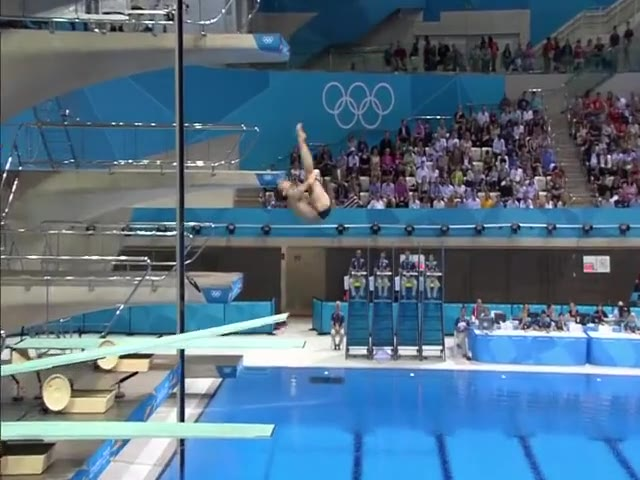diver: (274, 120, 342, 224)
